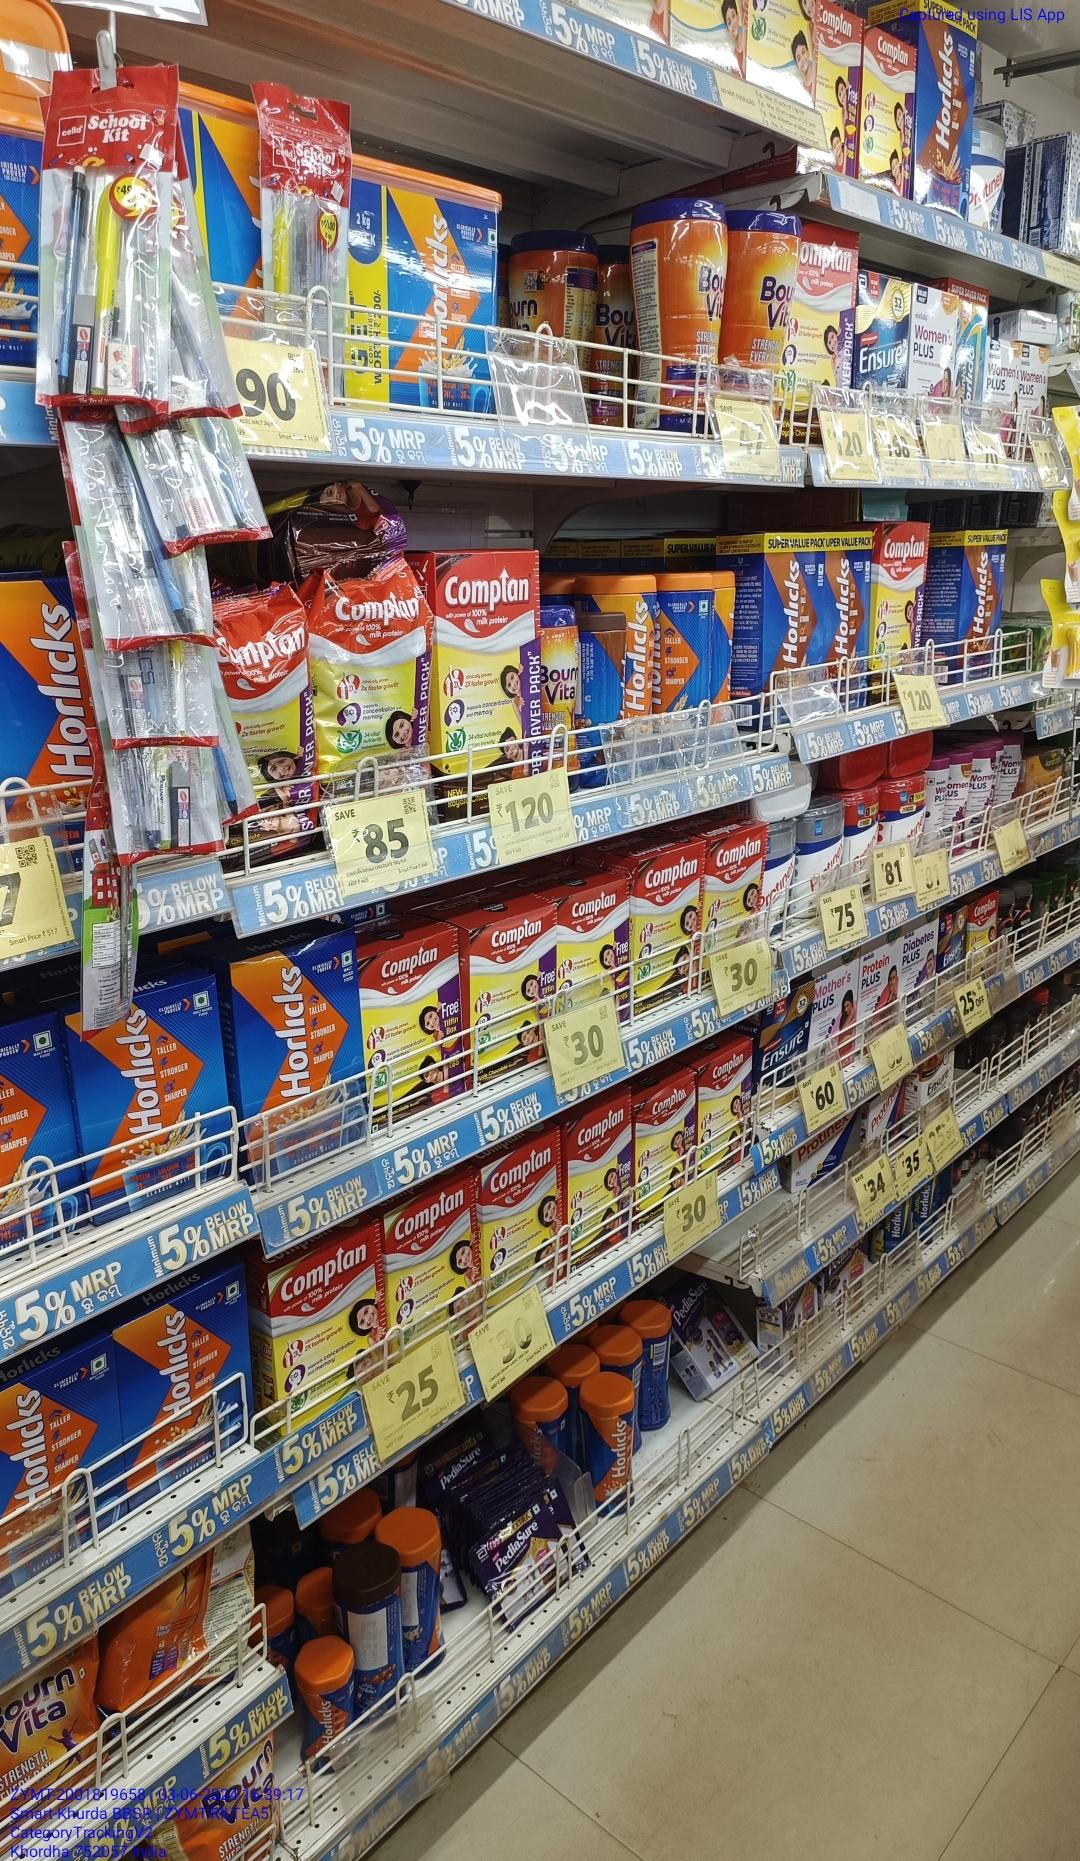BOURN_VITA_500_G_JAR: (636, 195, 724, 431), (725, 208, 791, 371), (540, 612, 582, 769)
COMPLAN_CHOCOLATE_1_KG_PACK: (433, 548, 540, 772), (876, 523, 926, 675)
COMPLAN_CHOCOLATE_500_GMS_PACK: (366, 950, 467, 1113), (474, 928, 548, 1076), (567, 1113, 633, 1256), (638, 857, 701, 1005), (633, 1085, 699, 1191)
COMPLAN_CREAMY_CLASSIC_500_G_PACK: (487, 1150, 559, 1297)
COMPLAN_PISTA_BADAM_500_GMS_PACK: (265, 1248, 379, 1392), (384, 1199, 482, 1339)
COMPLAN_RC_POUCH_700_GMS_12: (316, 569, 429, 787), (238, 592, 314, 857)
HORLICK_CHOCOLATE_1_KG_PACK: (765, 535, 825, 682), (825, 532, 869, 684), (960, 530, 1002, 679)
HORLICK_CLASSIC_MALT_500_G_PACK: (129, 1283, 252, 1483), (5, 1366, 123, 1567)
HORLICK_MALT_1_KG_CONTAINER: (347, 153, 500, 413)
